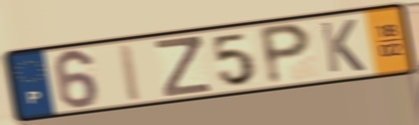5: (212, 30, 260, 89)
6: (53, 47, 100, 111)
I: (116, 41, 145, 104)
K: (317, 17, 368, 75)
P: (257, 21, 315, 87)
Z: (152, 35, 214, 100)
